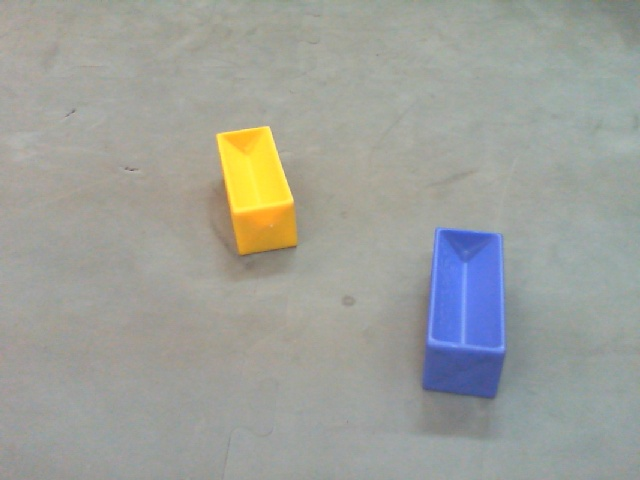BlueSample: (416, 224, 511, 400)
YellowSample: (212, 124, 304, 258)
